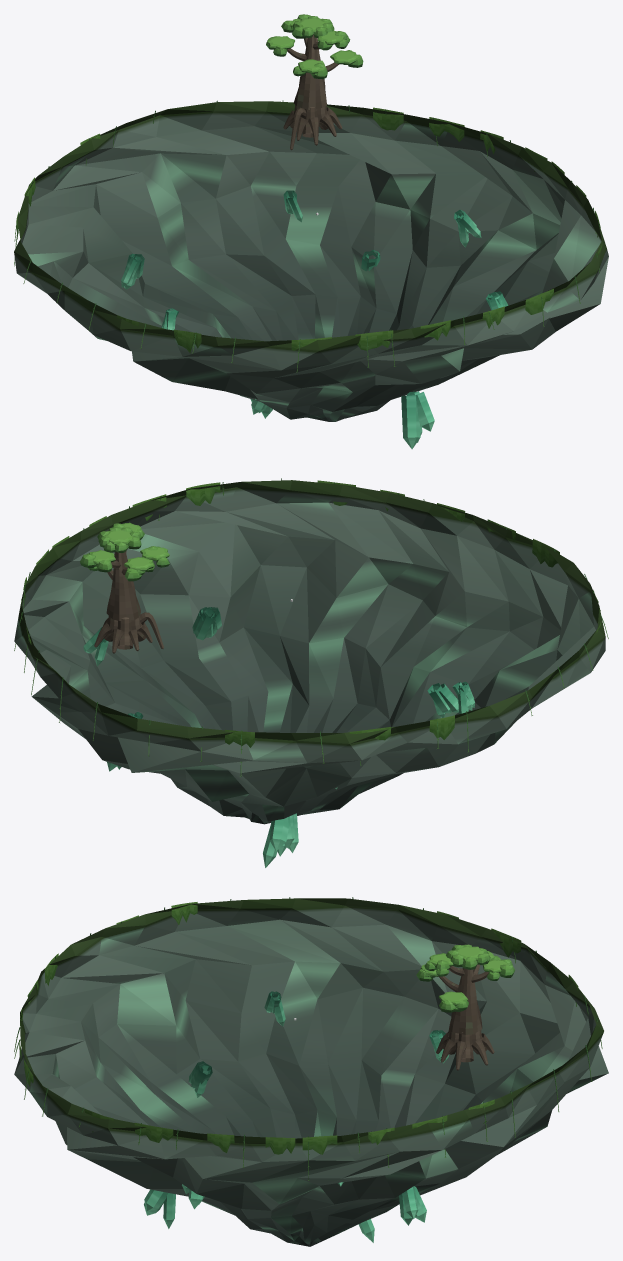
The model's file is JadeGrove_Island.fbx.
The picture shows the model from 3 angles, top to bottom: view 1: azimuth 30°, elevation 25°; view 2: azimuth 150°, elevation 25°; view 3: azimuth 270°, elevation 25°; orthographic projection. The views are drawn at different scales.
Parts seen in each view (by area): view 1: JG_Underside, JG_UnderCrystals, JG_MossCurtains, JG_ElderTrunk, JG_ElderCanopy, JG_ElderPads, JG_Vines; view 2: JG_Underside, JG_UnderCrystals, JG_ElderTrunk, JG_MossCurtains, JG_ElderCanopy, JG_ElderPads, JG_Vines; view 3: JG_Underside, JG_MossCurtains, JG_UnderCrystals, JG_ElderTrunk, JG_ElderCanopy, JG_ElderPads, JG_Vines.
Boxes of the visible parts, <box> form: JG_Underside: <box>14,101,608,421</box>; JG_UnderCrystals: <box>121,190,508,449</box>; JG_MossCurtains: <box>16,107,602,353</box>; JG_ElderTrunk: <box>283,34,342,150</box>; JG_ElderCanopy: <box>266,14,363,79</box>; JG_ElderPads: <box>266,18,359,73</box>; JG_Vines: <box>14,100,599,372</box>; JG_Underside: <box>14,480,605,824</box>; JG_UnderCrystals: <box>83,607,474,867</box>; JG_ElderTrunk: <box>94,551,163,653</box>; JG_MossCurtains: <box>21,480,601,747</box>; JG_ElderCanopy: <box>80,523,169,581</box>; JG_ElderPads: <box>89,522,169,571</box>; JG_Vines: <box>14,478,608,776</box>; JG_Underside: <box>14,898,608,1246</box>; JG_MossCurtains: <box>19,902,578,1154</box>; JG_UnderCrystals: <box>144,991,448,1242</box>; JG_ElderTrunk: <box>436,968,494,1070</box>; JG_ElderCanopy: <box>416,944,514,1012</box>; JG_ElderPads: <box>420,946,509,1005</box>; JG_Vines: <box>14,897,602,1180</box>.
Bounding box in the file's own units: 312 × 202 × 321.
Materials: 1 (1 with a texture image).
